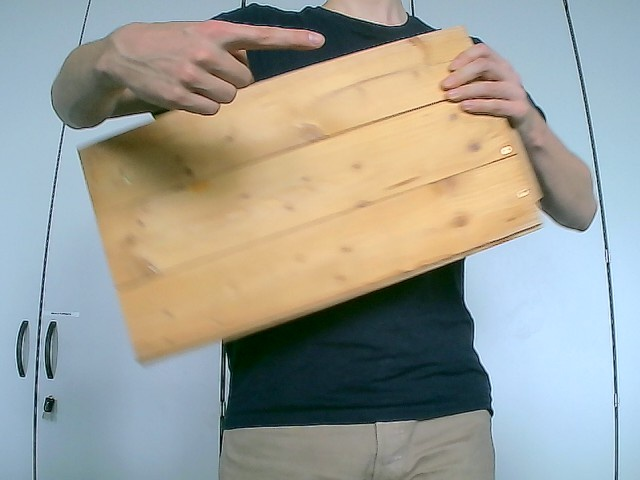left: (104, 18, 326, 117)
